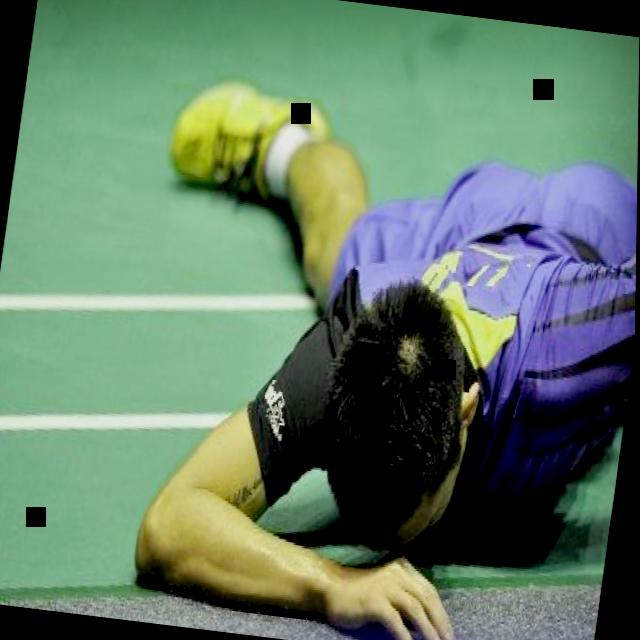Fall-Detected: (106, 0, 640, 640)
